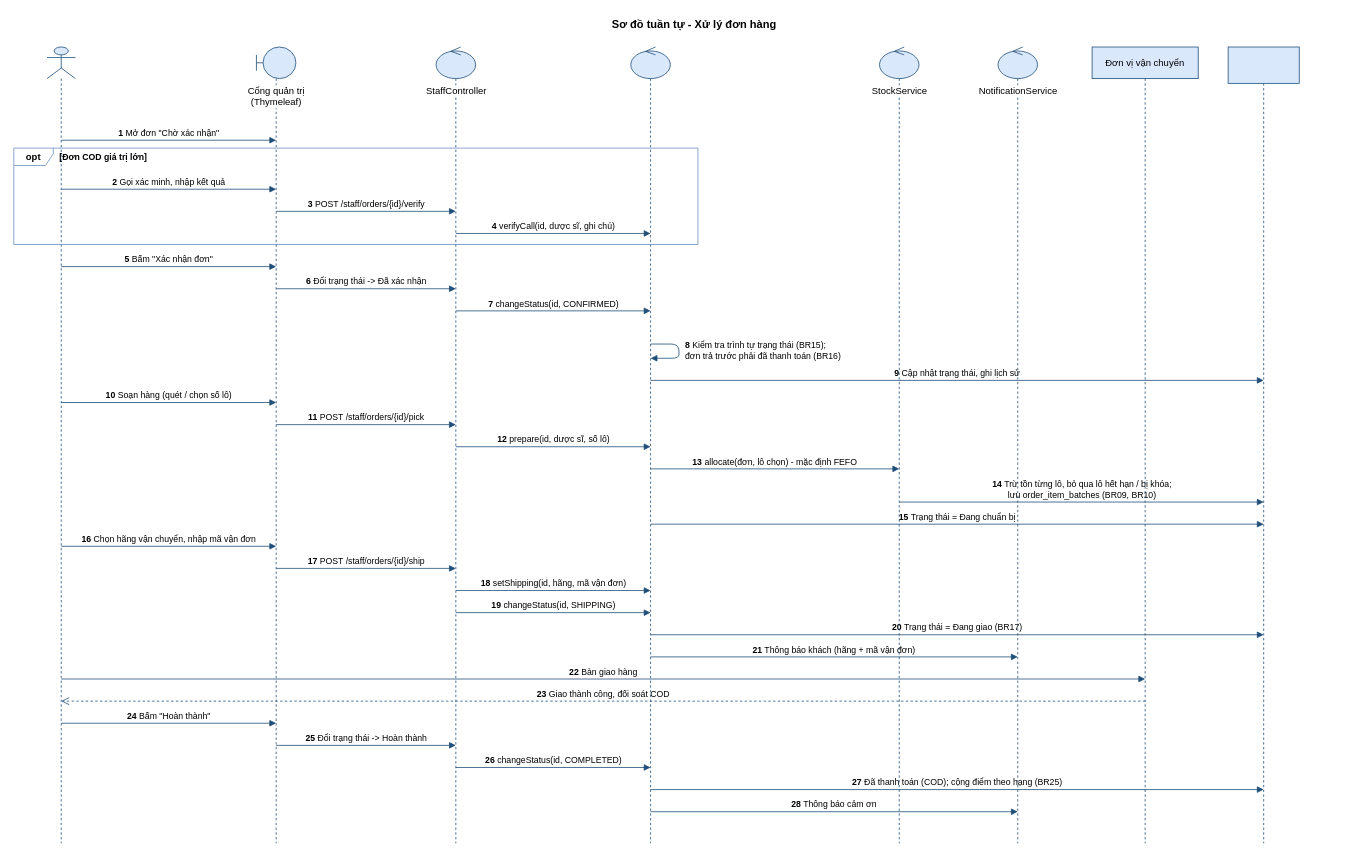
Some shapes in this 1372 by 857 pixel diagram are drawn without their labels. The box of each missing label's shape, as (x1, y1, x2, y2) in pixels:
Dược sĩ: (46, 46, 75, 843)
OrderService: (630, 46, 670, 843)
«database» CSDL: (1227, 46, 1299, 843)
